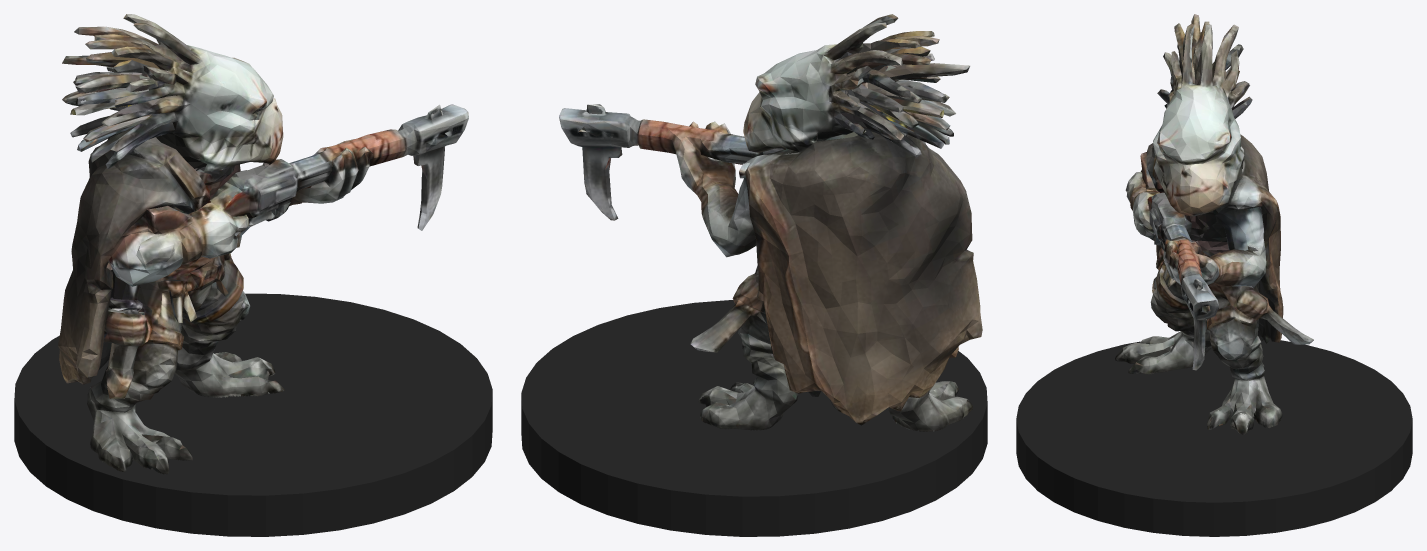
The model's file is fk-cold-blood.glb.
3 renders of one model, left to right at view 1: azimuth 30°, elevation 25°; view 2: azimuth 150°, elevation 25°; view 3: azimuth 270°, elevation 25°, orthographic. The views are drawn at different scales.
Visible parts, largest first — view 1: figure, base; view 2: figure, base; view 3: base, figure.
Part boxes in pixels (x1,y1,x2,y2): figure: (58,14,468,474); base: (14,293,492,536); figure: (559,14,982,431); base: (521,300,987,536); base: (1016,339,1412,536); figure: (1115,14,1313,434).
Size of the model in its own units: 1.26 by 1.32 by 1.26.
Materials: 2 (1 with a texture image).
